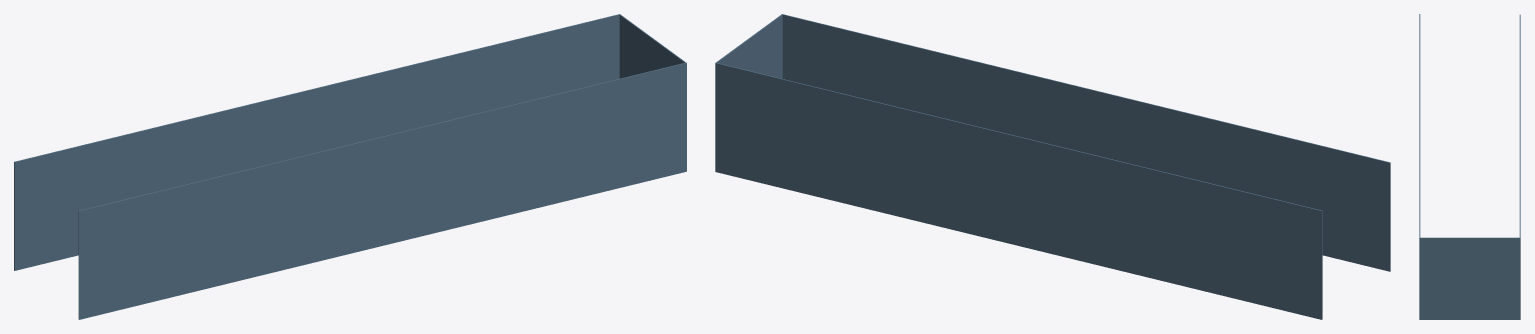
The model's file is vidrio.fbx.
3 renders of one model, left to right at view 1: azimuth 30°, elevation 25°; view 2: azimuth 150°, elevation 25°; view 3: azimuth 270°, elevation 25°, orthographic. The views are drawn at different scales.
Visible parts, largest first — view 1: barandal casa club; view 2: barandal casa club; view 3: barandal casa club.
Boxes of the visible parts, box(x1,y1,x2,y2) form: barandal casa club: box(14, 14, 686, 319); barandal casa club: box(715, 14, 1390, 319); barandal casa club: box(1419, 14, 1520, 319).
Bounding box in the file's own units: 5.85 × 1 × 1.11.
